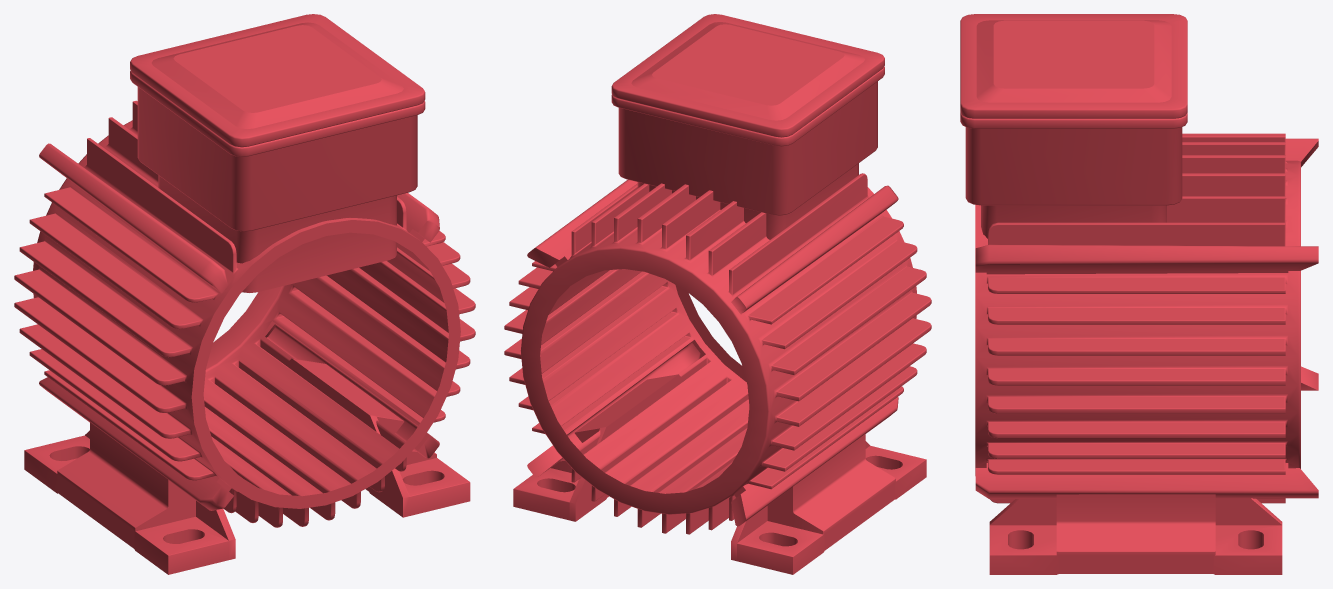
The model's file is body.fbx.
The picture shows the model from 3 angles, left to right: view 1: azimuth 30°, elevation 25°; view 2: azimuth 150°, elevation 25°; view 3: azimuth 270°, elevation 25°; orthographic projection. The views are drawn at different scales.
Visible parts, largest first — view 1: body; view 2: body; view 3: body.
Part boxes in pixels (x1,y1,x2,y2): body: (14,14,475,574); body: (504,14,931,574); body: (960,14,1318,574).
Size of the model in its own units: 122 by 160 by 117.
